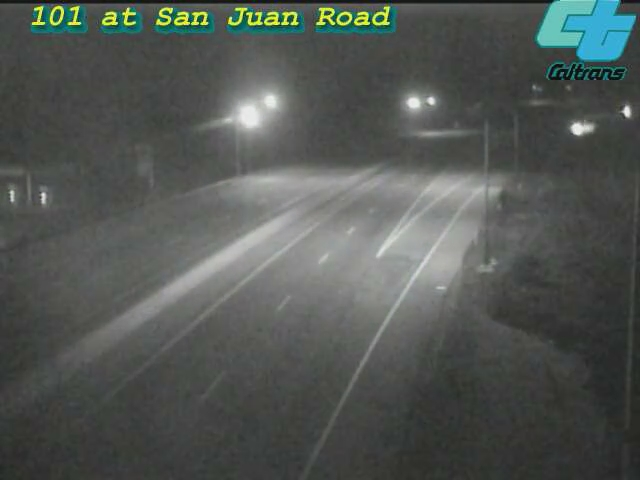vehicle: (557, 104, 607, 154), (602, 88, 640, 138)
